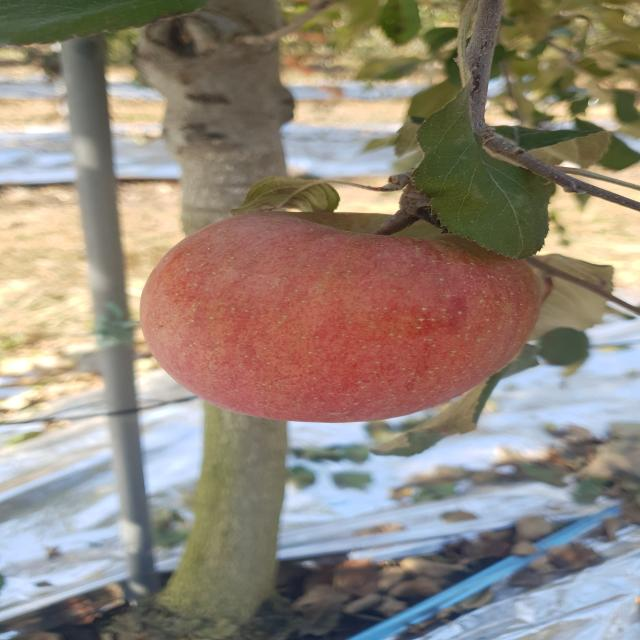fresh: (123, 197, 563, 434)
